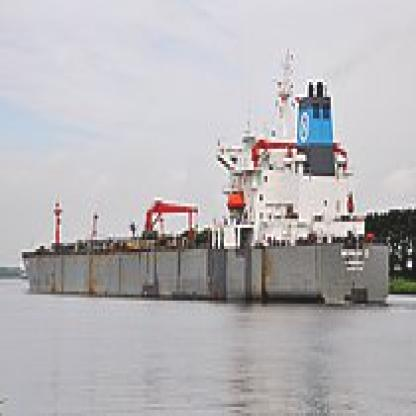Tanker: (16, 58, 400, 319)
